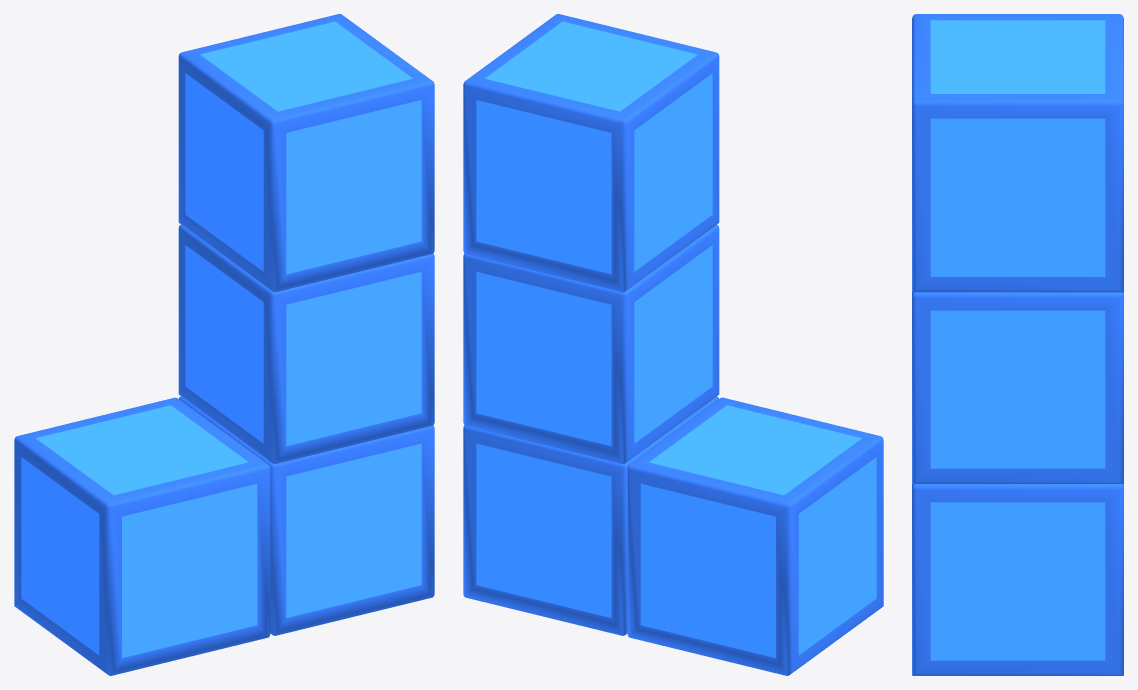
The model's file is J_block.glb.
3 renders of one model, left to right at view 1: azimuth 30°, elevation 25°; view 2: azimuth 150°, elevation 25°; view 3: azimuth 270°, elevation 25°, orthographic. The views are drawn at different scales.
Parts seen in each view (by area): view 1: FuwaSuisei_Tetris06_FuwaSuiseiItems_0; view 2: FuwaSuisei_Tetris06_FuwaSuiseiItems_0; view 3: FuwaSuisei_Tetris06_FuwaSuiseiItems_0.
Boxes of the visible parts, x1,y1,x2,y2 form: FuwaSuisei_Tetris06_FuwaSuiseiItems_0: [14, 14, 434, 675]; FuwaSuisei_Tetris06_FuwaSuiseiItems_0: [463, 14, 883, 675]; FuwaSuisei_Tetris06_FuwaSuiseiItems_0: [912, 14, 1123, 675].
Size of the model in its own units: 0.8312 by 1.25 by 0.4155.
Materials: 1 (1 with a texture image).
